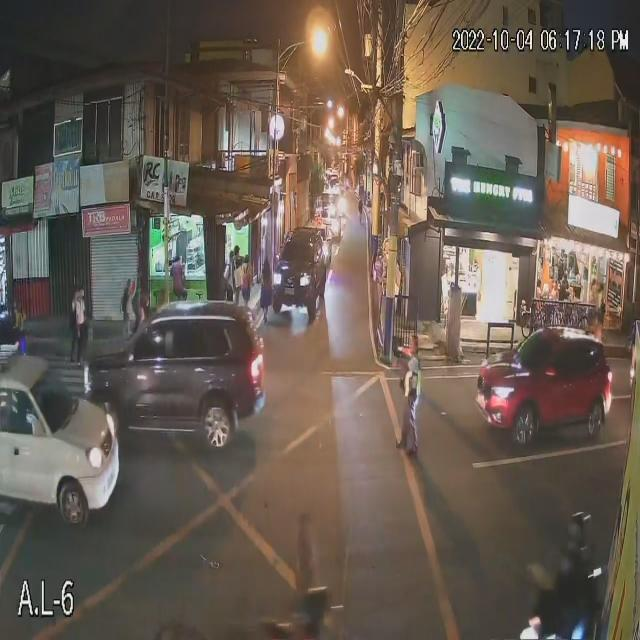helmet: (565, 511, 590, 535)
motorcycle: (518, 570, 612, 639), (259, 583, 347, 639)
rider: (524, 509, 607, 640), (278, 512, 335, 640)
